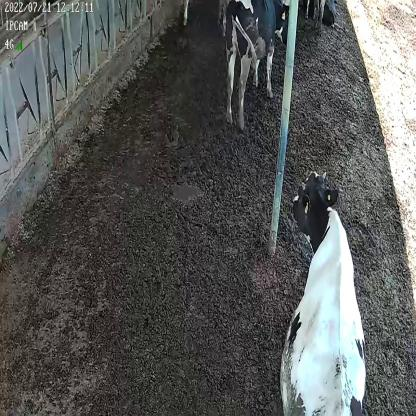cow: (280, 170, 367, 414), (223, 0, 287, 128)
